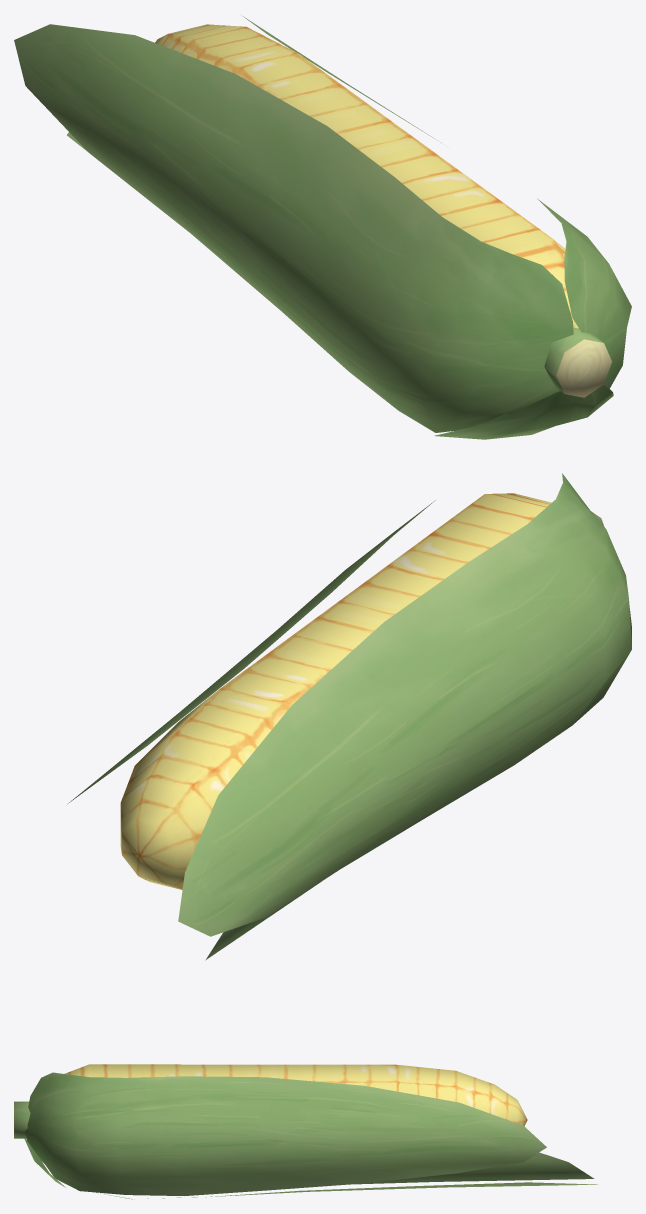
The model's file is cage_corn.glb.
3 views of the same model, one above another, from view 1: azimuth 30°, elevation 25°; view 2: azimuth 150°, elevation 25°; view 3: azimuth 270°, elevation 25° (orthographic). The views are drawn at different scales.
Parts seen in each view (by area): view 1: cage_corn; view 2: cage_corn; view 3: cage_corn.
Part boxes in pixels (left/top/right/bottom): cage_corn: left=14, top=16, right=631, bottom=439; cage_corn: left=68, top=473, right=631, bottom=960; cage_corn: left=14, top=1064, right=597, bottom=1199.
Bounding box in the file's own units: 2.32 × 2.05 × 9.
Materials: 1 (1 with a texture image).
